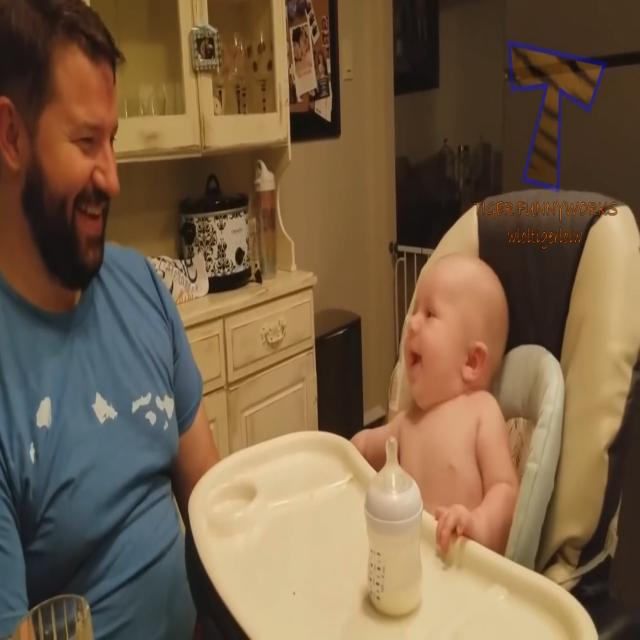safe: (402, 242, 509, 469)
